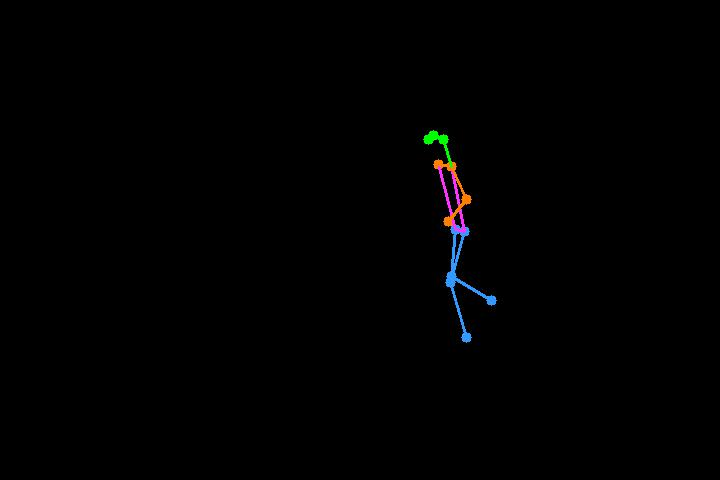normal: (401, 115, 515, 353)
